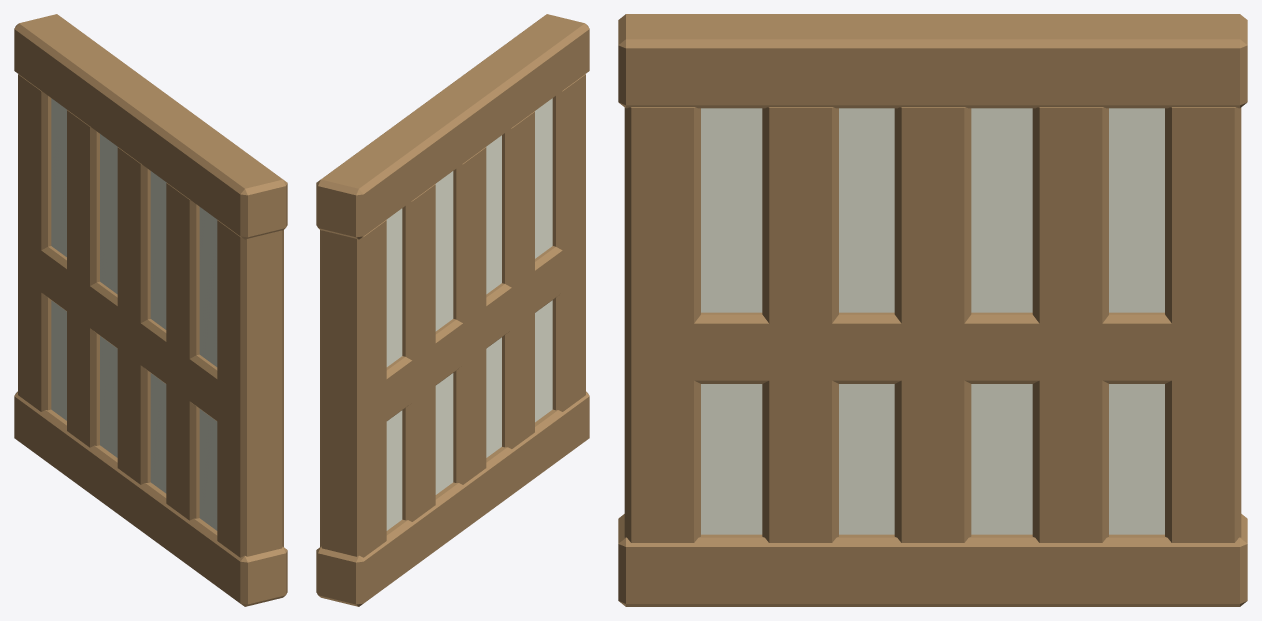
Rendered from BaseWall_1.fbx.
The picture shows the model from 3 angles, left to right: view 1: azimuth 30°, elevation 25°; view 2: azimuth 150°, elevation 25°; view 3: azimuth 270°, elevation 25°; orthographic projection. The views are drawn at different scales.
Parts seen in each view (by area): view 1: BaseWall_1; view 2: BaseWall_1; view 3: BaseWall_1.
Part boxes in pixels (x1,y1,x2,y2): BaseWall_1: (14,14,287,606); BaseWall_1: (316,14,589,606); BaseWall_1: (618,14,1247,606).
Bounding box in the file's own units: 0.2753 × 2.32 × 2.33.
